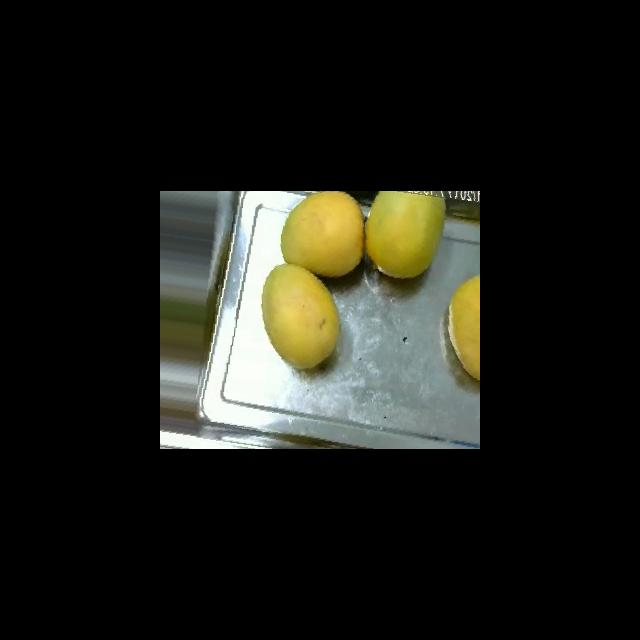mango: (260, 263, 339, 369), (280, 191, 364, 277), (364, 191, 446, 279), (447, 272, 479, 382)
